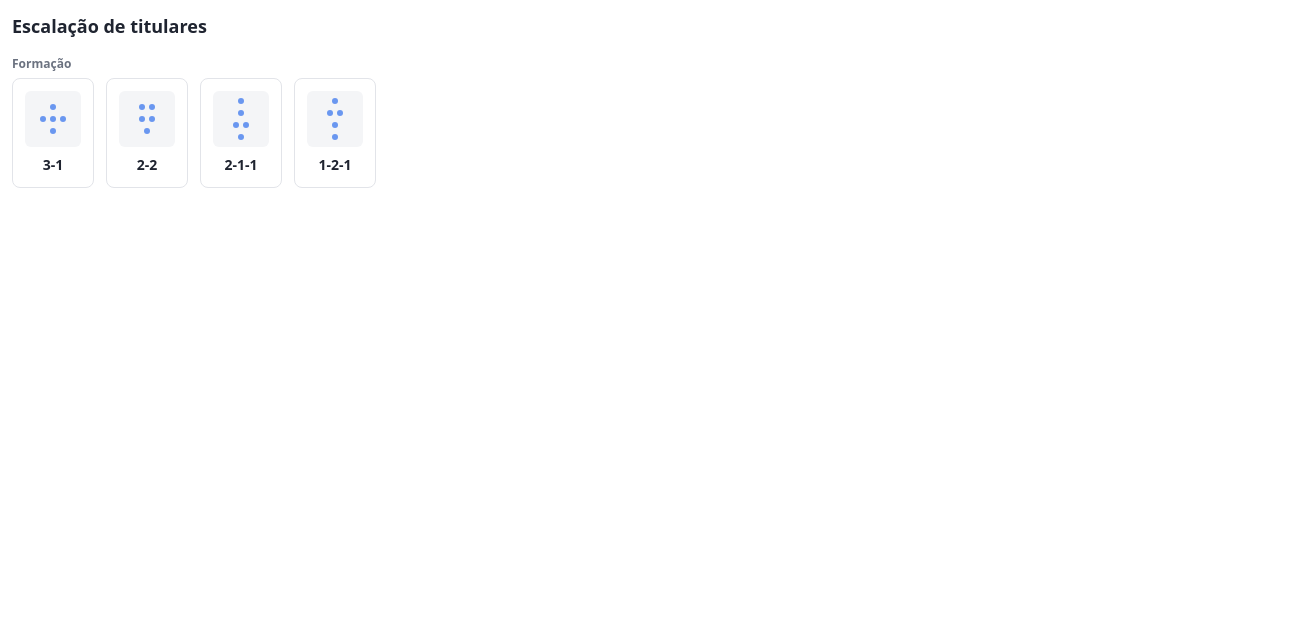
ClubLineup › mostra condição, overall e atributo usado do titular escalado
The width and height of the screenshot is (1292, 632).
Click the radio button labelled "2-1-1": point(241, 133) [200,78,282,188]
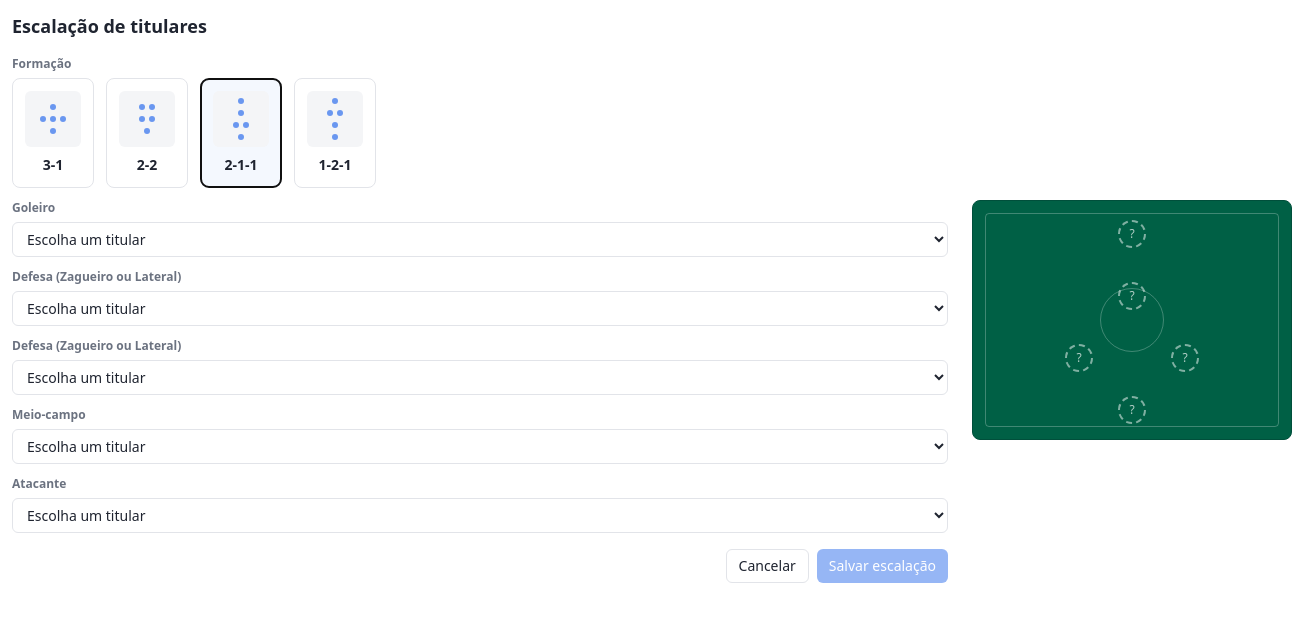
Now the dropdown labelled "Goleiro" is shown
Select "Goleiro A" in the dropdown labelled "Goleiro": point(480, 240) [12,222,948,257]
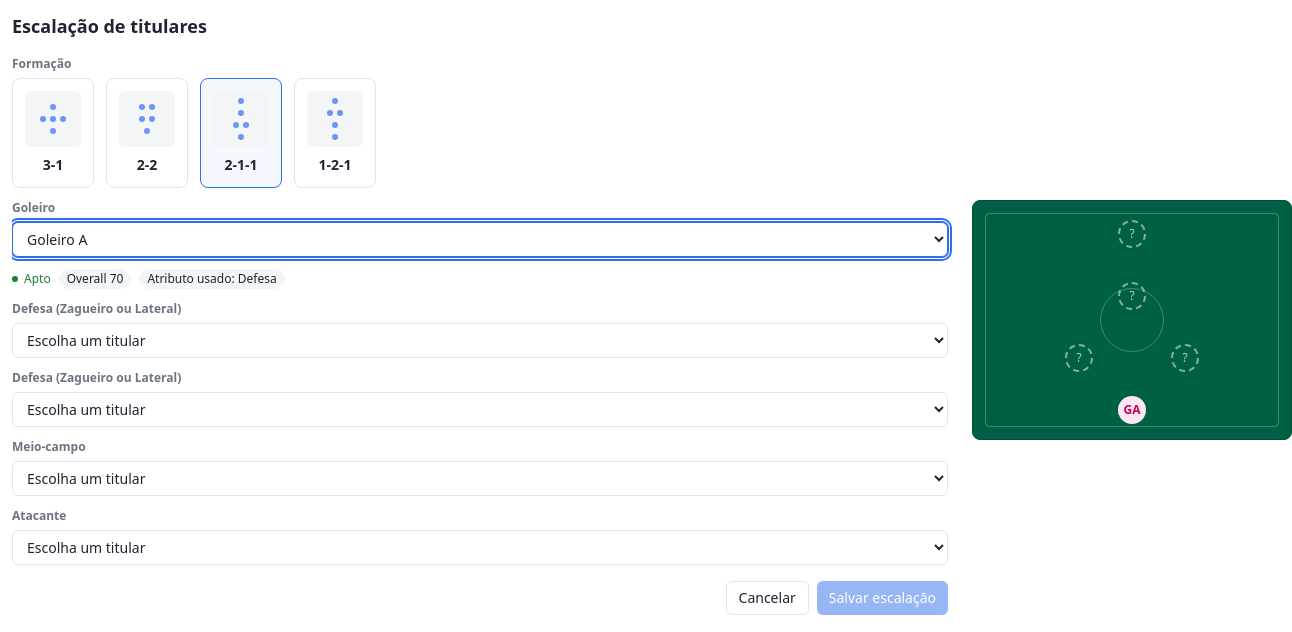
Now the text "Overall 70" is shown, box [59,269,131,289]
Now the text "Atributo usado: Defesa" is shown, box [139,269,285,289]
